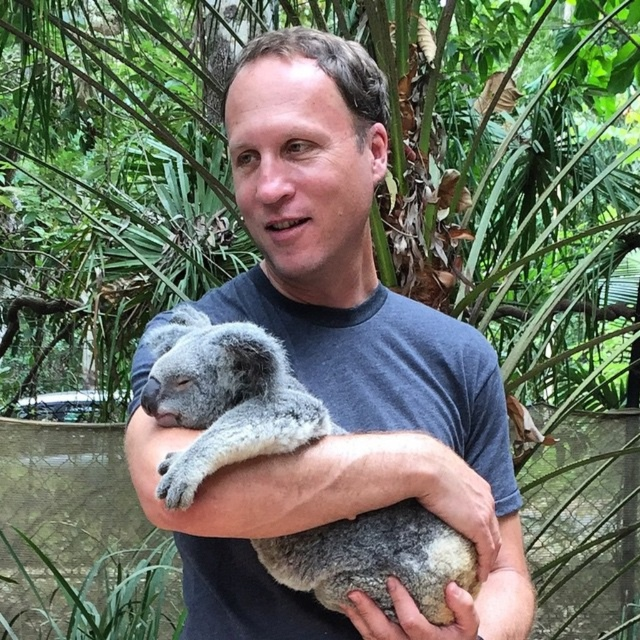Koala: (141, 304, 483, 625)
